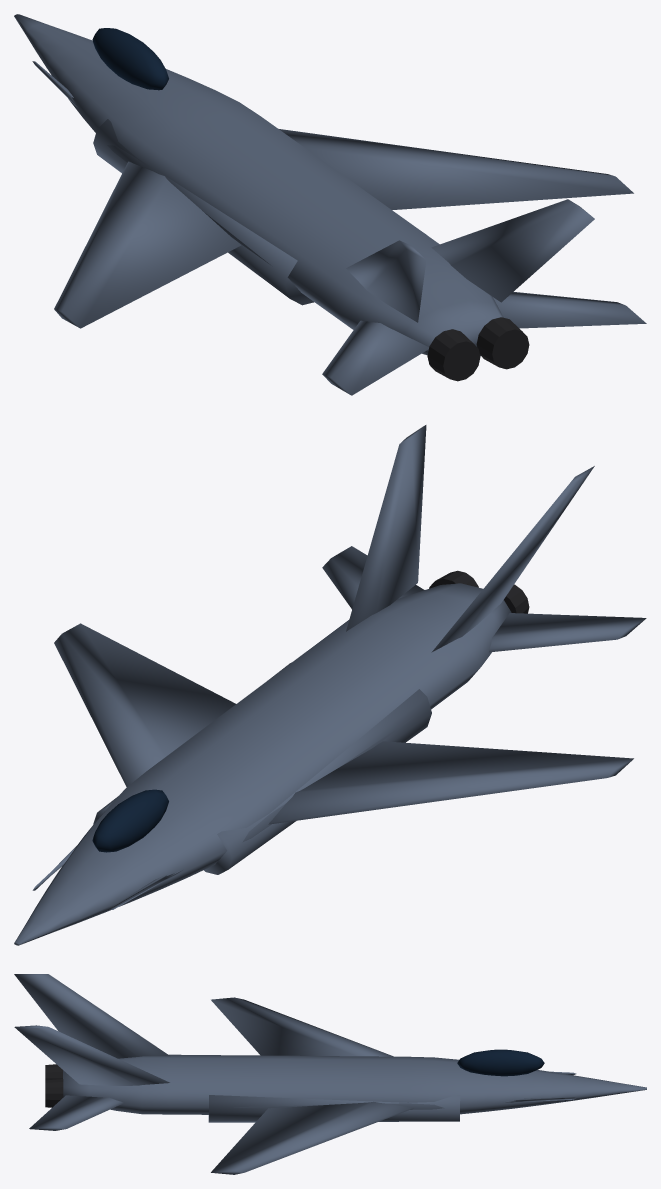
The picture shows the model from 3 angles, top to bottom: view 1: azimuth 30°, elevation 25°; view 2: azimuth 150°, elevation 25°; view 3: azimuth 270°, elevation 25°; orthographic projection. The views are drawn at different scales.
Visible parts, largest first — view 1: Body, Detail, Canopy; view 2: Body, Canopy, Detail; view 3: Body, Canopy, Detail.
Boxes of the visible parts, x1,y1,x2,y2 form: Body: (14,14,646,395); Detail: (427,317,529,381); Canopy: (92,28,168,90); Body: (14,425,646,945); Canopy: (92,789,168,852); Detail: (429,570,529,613); Body: (14,974,646,1174); Canopy: (457,1049,544,1076); Detail: (45,1064,63,1107).
Bounding box in the file's own units: 14.1 × 4.03 × 21.78.
